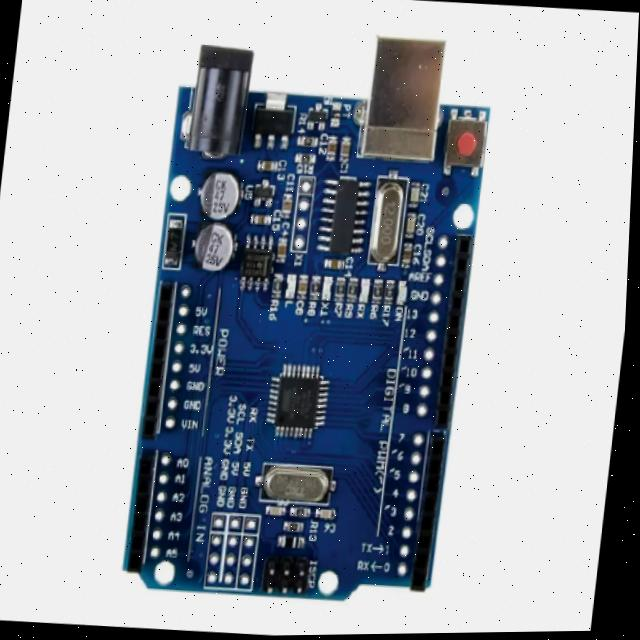Arduino: (109, 16, 510, 613)
